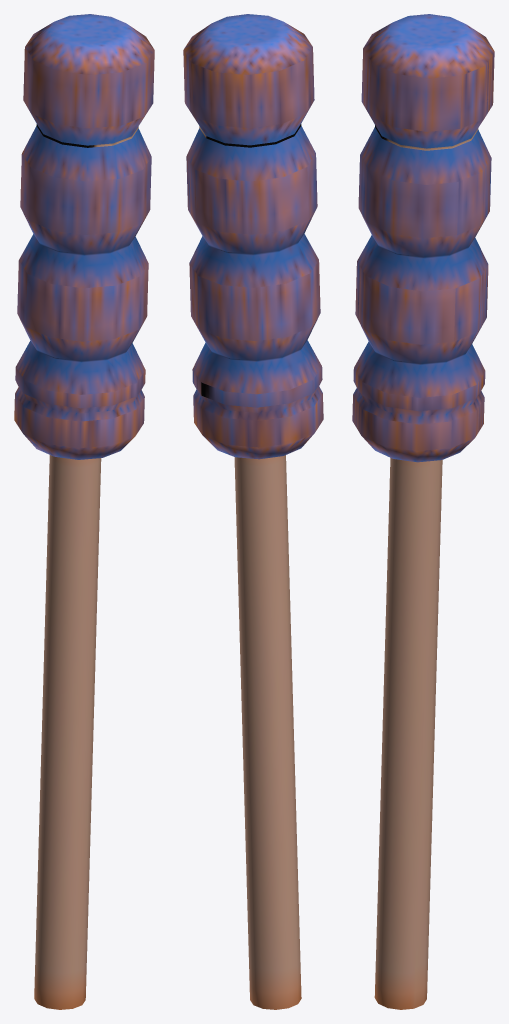
3 renders of one model, left to right at view 1: azimuth 30°, elevation 25°; view 2: azimuth 150°, elevation 25°; view 3: azimuth 330°, elevation 25°, orthographic.
Visible parts, largest first — view 1: Cylinder.410; view 2: Cylinder.410; view 3: Cylinder.410.
Boxes of the visible parts, x1,y1,x2,y2 form: Cylinder.410: [14, 14, 154, 1009]; Cylinder.410: [183, 14, 323, 1009]; Cylinder.410: [352, 14, 494, 1009].
Bounding box in the file's own units: 0.3194 × 2.39 × 0.2918.
1 material, 1 textured.
